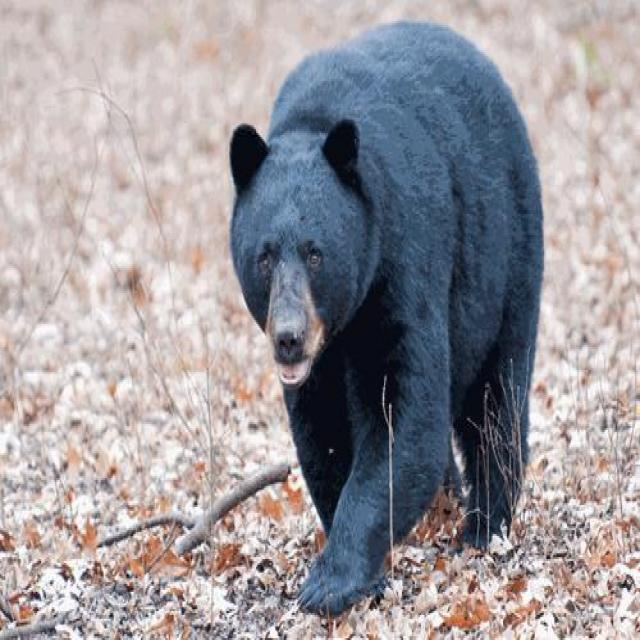Bear: (228, 21, 545, 619)
